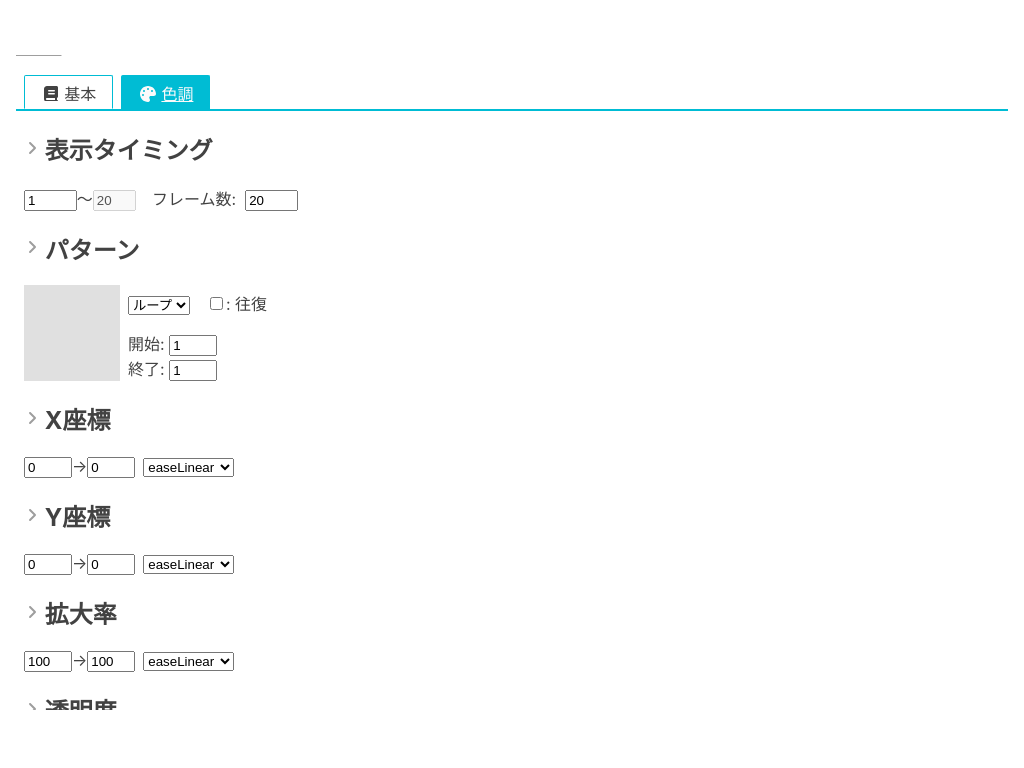
it: Color components › has Color component
Click the text "色調".
click(166, 92)  # box [121,75,210,109]
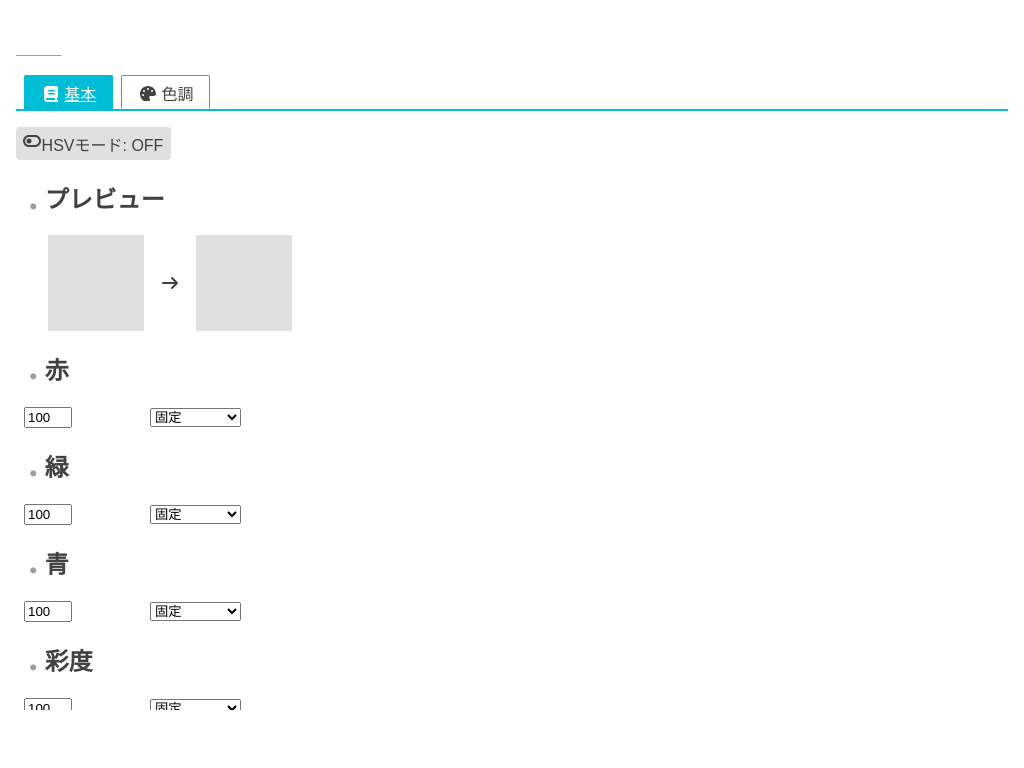
Check: the heading "・ 赤" is shown, box [21,356,69,392]
